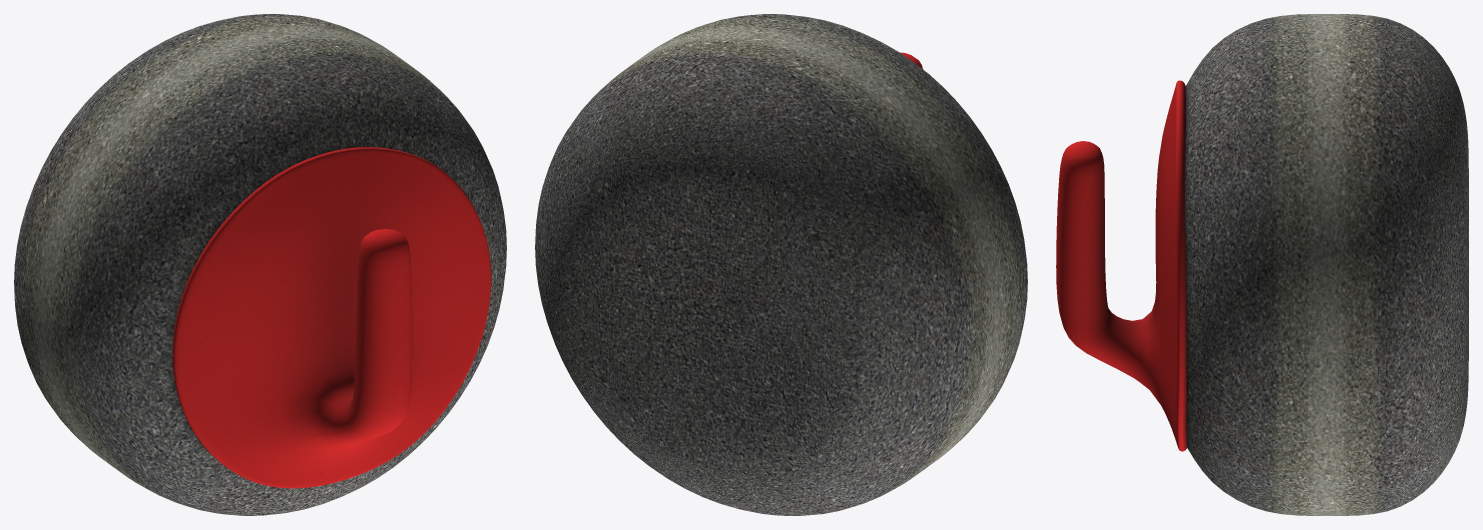
The model's file is stone.glb.
3 renders of one model, left to right at view 1: azimuth 30°, elevation 25°; view 2: azimuth 150°, elevation 25°; view 3: azimuth 270°, elevation 25°, orthographic.
Visible parts, largest first — view 1: 11720_Curling_Stone_v1_L3; view 2: 11720_Curling_Stone_v1_L3; view 3: 11720_Curling_Stone_v1_L3.
Part boxes in pixels (x1,y1,x2,y2): 11720_Curling_Stone_v1_L3: (14,14,506,515); 11720_Curling_Stone_v1_L3: (535,14,1027,515); 11720_Curling_Stone_v1_L3: (1056,14,1468,515).
Bounding box in the file's own units: 19.32 × 19.33 × 15.89.
Materials: 1 (1 with a texture image).
